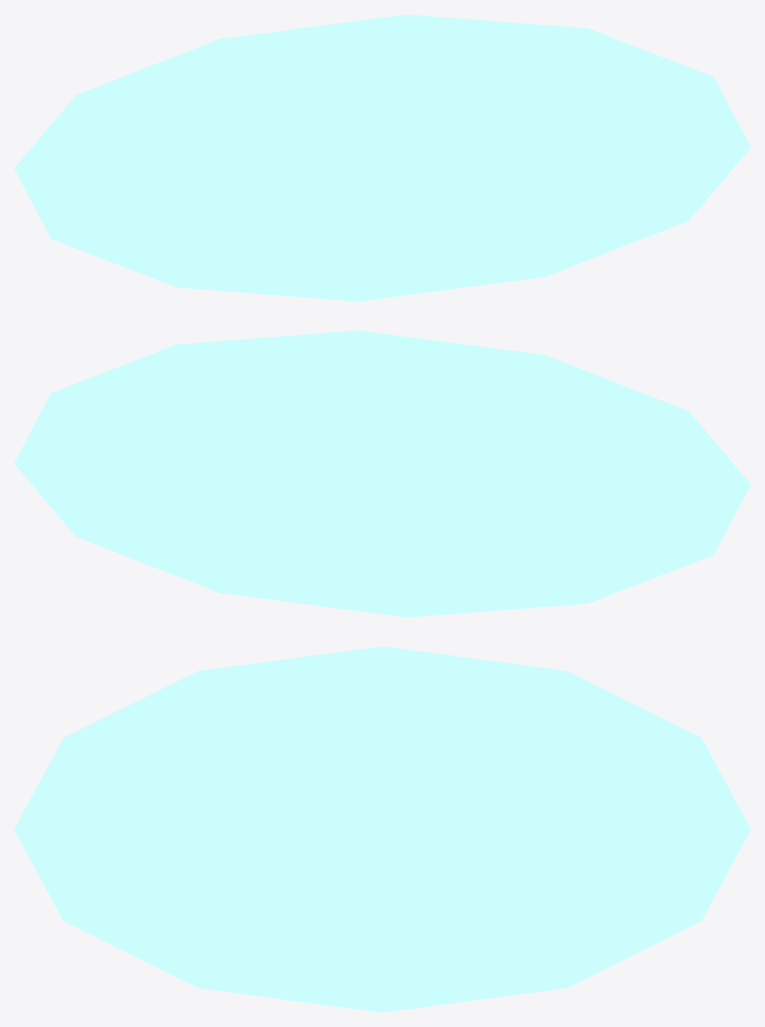
The model's file is pond_water.glb.
3 renders of one model, top to bottom at view 1: azimuth 30°, elevation 25°; view 2: azimuth 150°, elevation 25°; view 3: azimuth 270°, elevation 25°, orthographic. The views are drawn at different scales.
Parts seen in each view (by area): view 1: Pond_Water; view 2: Pond_Water; view 3: Pond_Water.
Boxes of the visible parts, <box> form: Pond_Water: <box>14,14,750,301</box>; Pond_Water: <box>14,330,750,617</box>; Pond_Water: <box>14,646,750,1012</box>.
Bounding box in the file's own units: 4.4 × 0 × 3.74.
